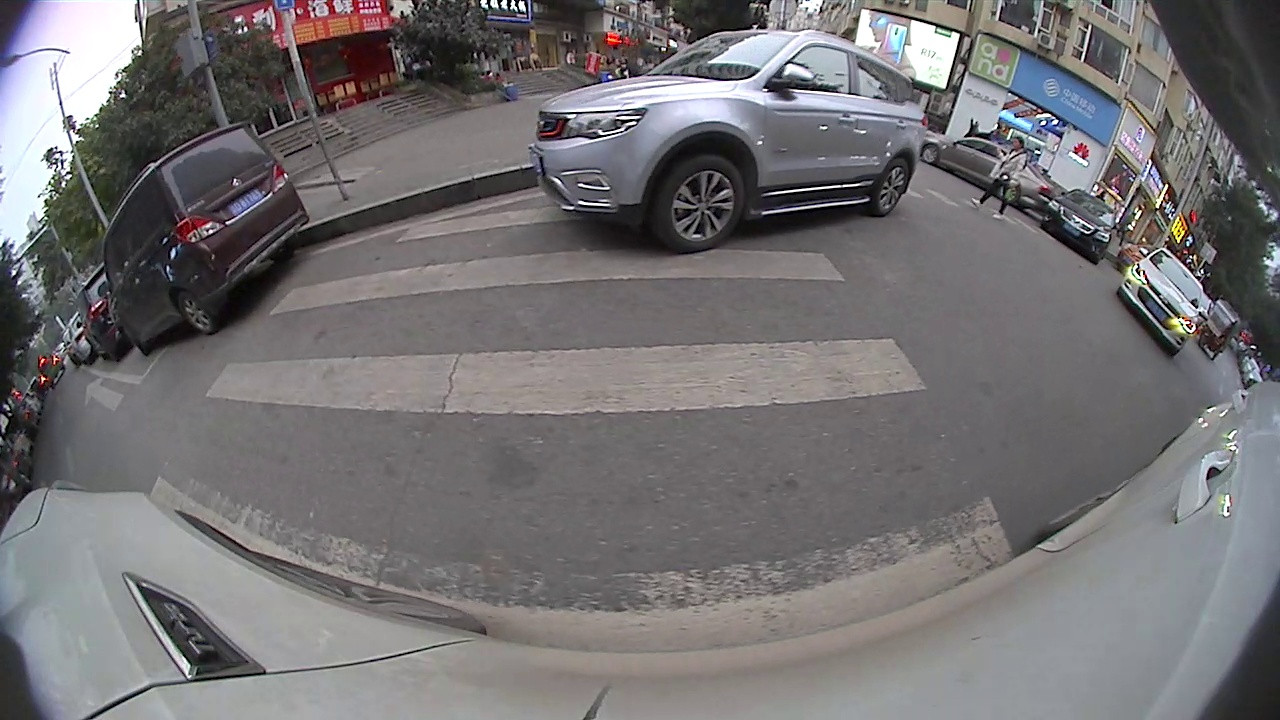car: (528, 25, 931, 258), (99, 116, 313, 356), (1114, 242, 1213, 364), (919, 133, 1062, 211), (1041, 184, 1121, 265)
front: (658, 161, 753, 248)
person: (1007, 131, 1028, 224)
rear: (875, 154, 912, 218), (172, 293, 222, 336)
